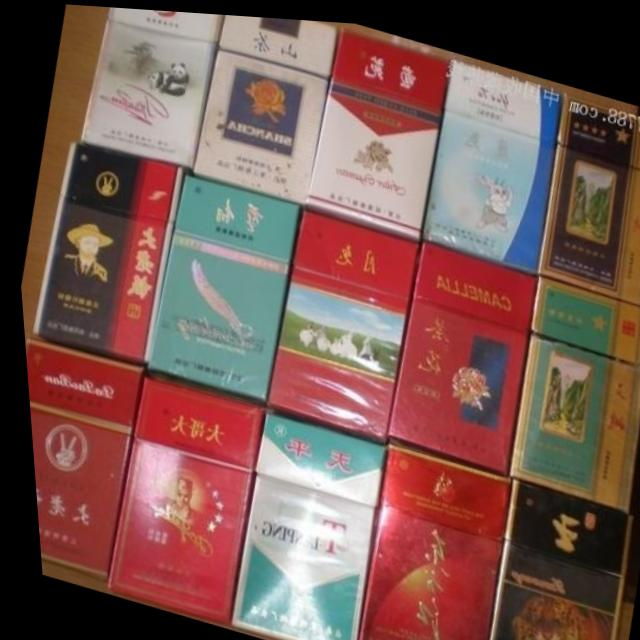box: (97, 374, 260, 622), (140, 170, 300, 405), (221, 405, 380, 640), (261, 203, 418, 436), (381, 234, 534, 469), (25, 139, 183, 363), (501, 267, 640, 505), (348, 435, 505, 640), (301, 22, 450, 234), (418, 51, 563, 267), (20, 335, 140, 581), (190, 12, 340, 202), (478, 470, 627, 640), (77, 6, 224, 171), (534, 86, 640, 298)
